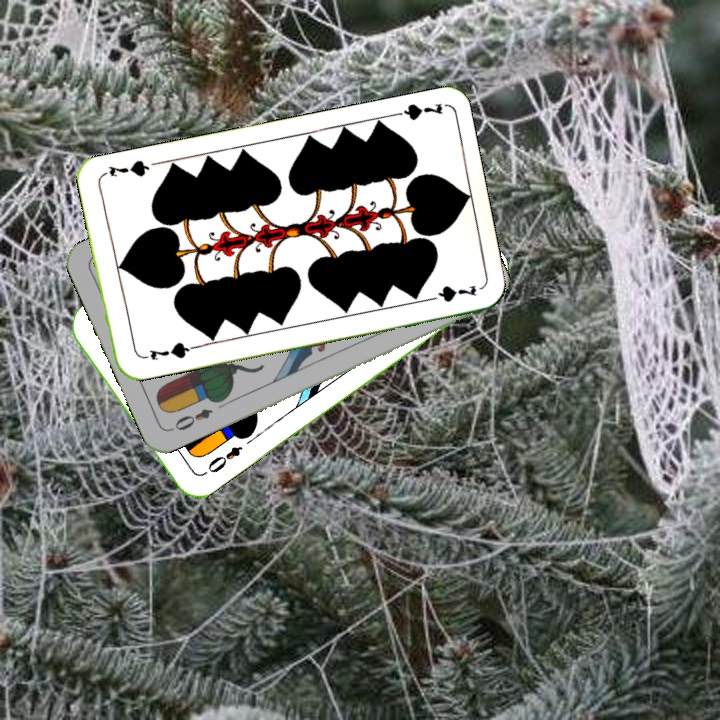EO: (166, 404, 215, 434), (203, 442, 245, 476)
G7: (137, 338, 196, 364), (385, 99, 445, 123)
